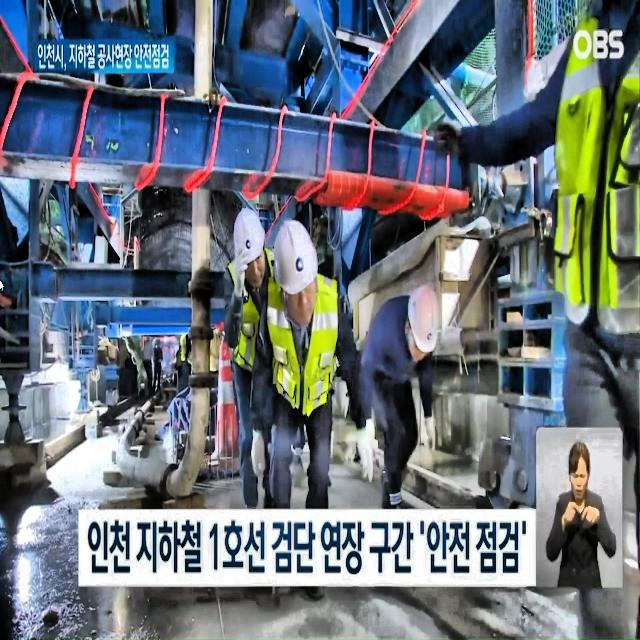safety_helmet: (272, 217, 320, 297), (406, 284, 442, 358), (231, 206, 268, 268)
safety_jacket: (547, 17, 640, 336), (263, 278, 342, 422), (230, 268, 264, 379)
